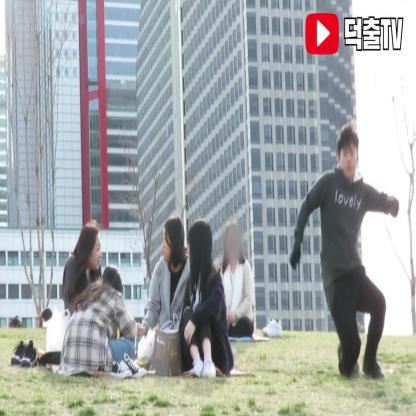Fall_Down: (289, 118, 404, 386)
